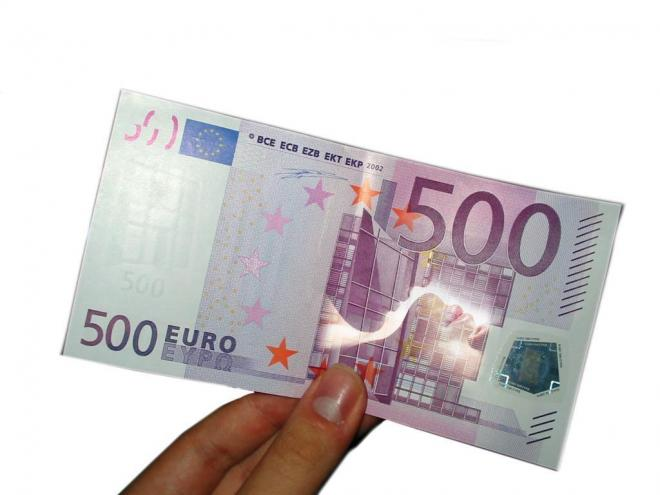billete: (58, 87, 627, 475)
